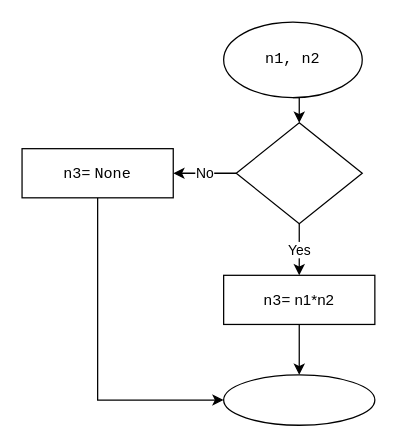
This 397x447 diagram has some shape labels left out. The centre of each missing label's shape, as x and y in pixels:
"Arguments OK?" belongs at point (298, 173).
"n3" belongs at point (298, 399).
